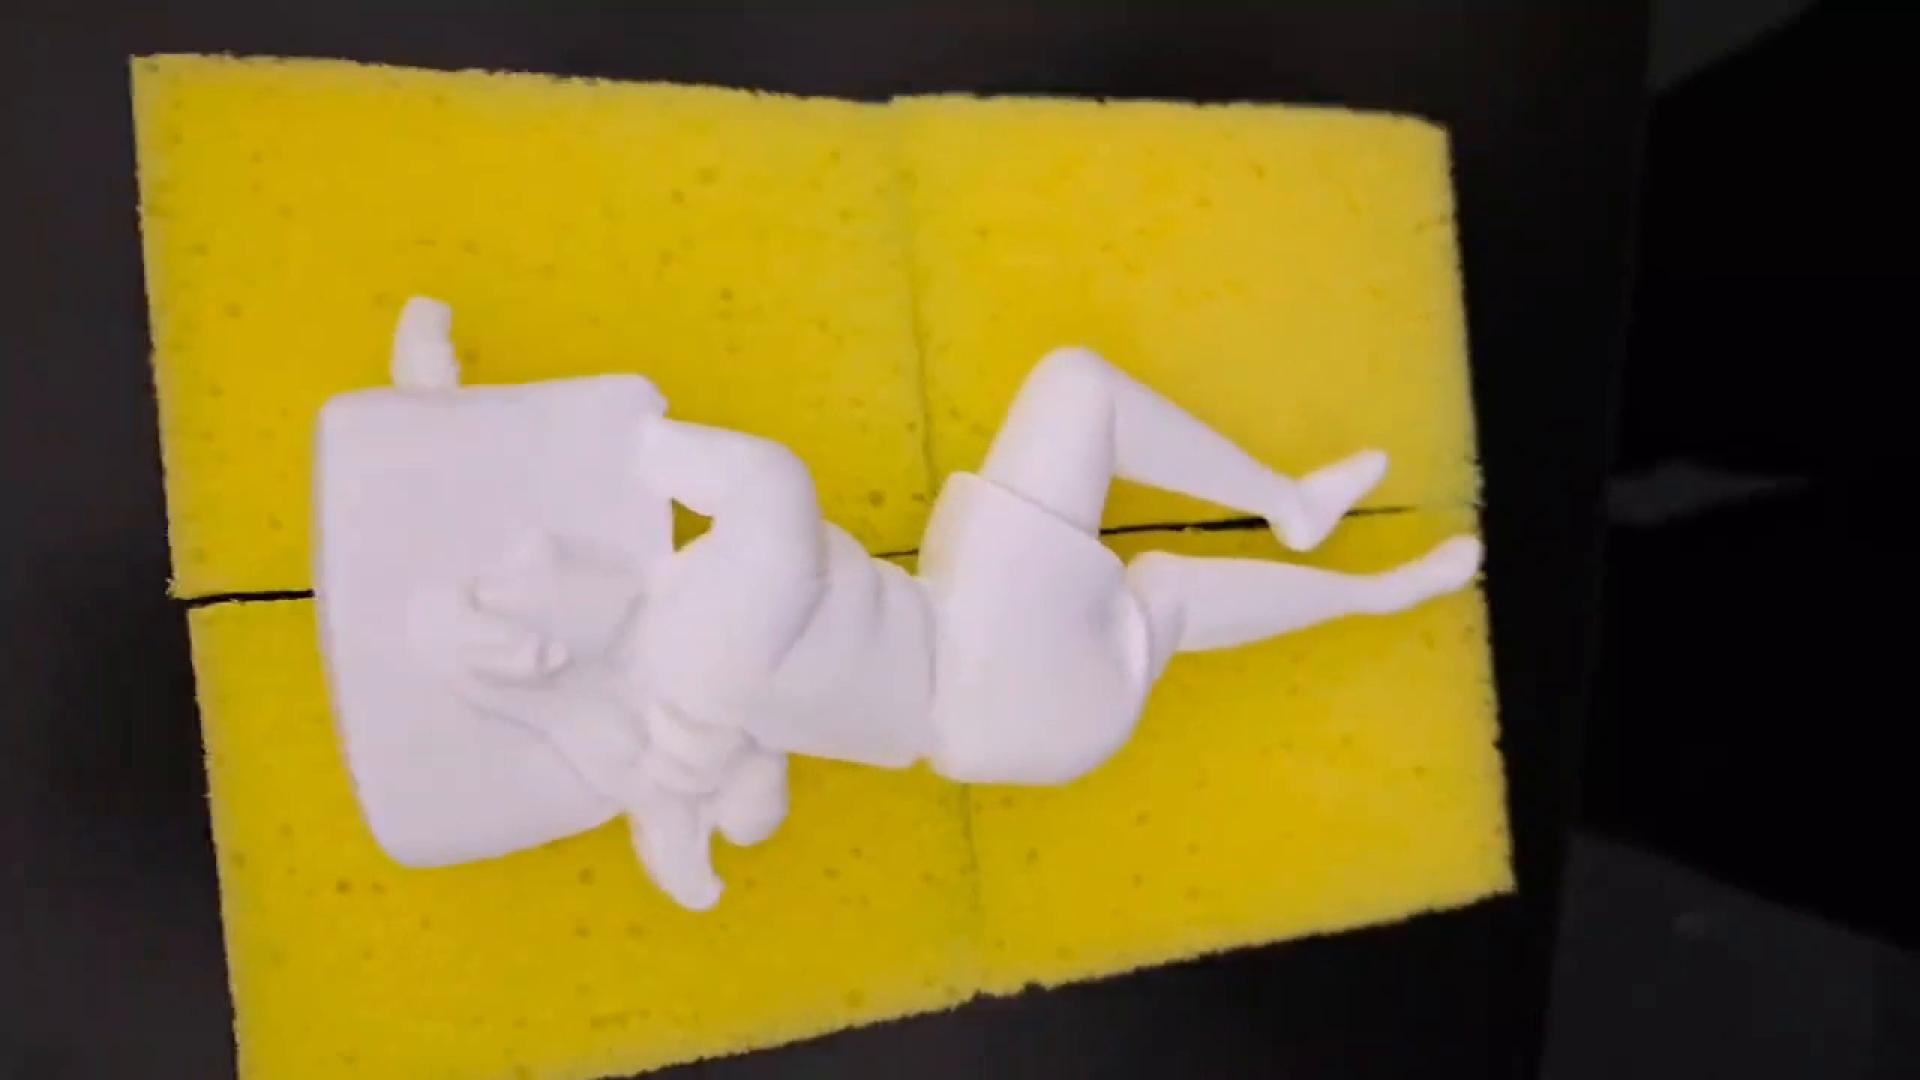Good-style: (235, 276, 1538, 931)
